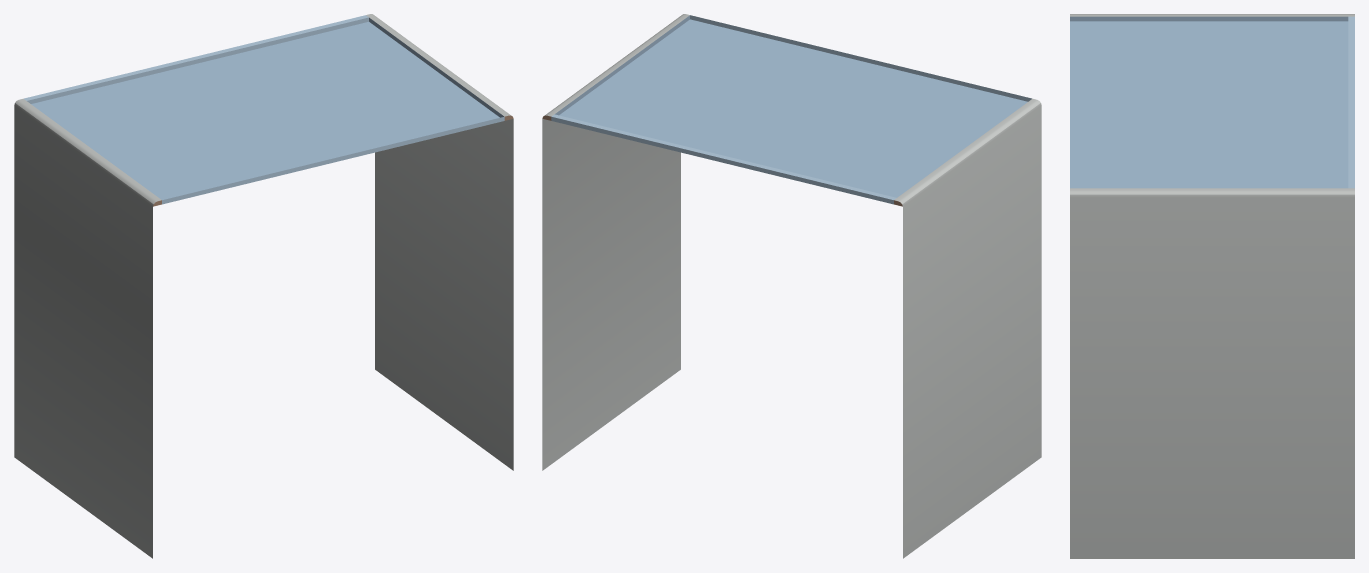
The model's file is finishway2.fbx.
3 views of the same model, side by side, from view 1: azimuth 30°, elevation 25°; view 2: azimuth 150°, elevation 25°; view 3: azimuth 270°, elevation 25° (orthographic). The views are drawn at different scales.
Visible parts, largest first — view 1: FinishWay2; view 2: FinishWay2; view 3: FinishWay2.
Boxes of the visible parts, bbox=[...] form: FinishWay2: bbox=[14, 14, 513, 558]; FinishWay2: bbox=[542, 14, 1041, 558]; FinishWay2: bbox=[1070, 14, 1354, 558].
Bounding box in the file's own units: 600 × 567 × 400.
